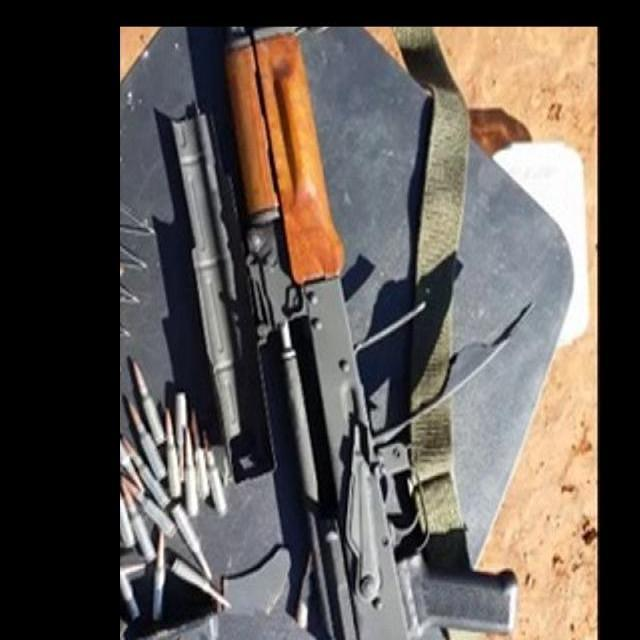weapon: (171, 26, 517, 640)
